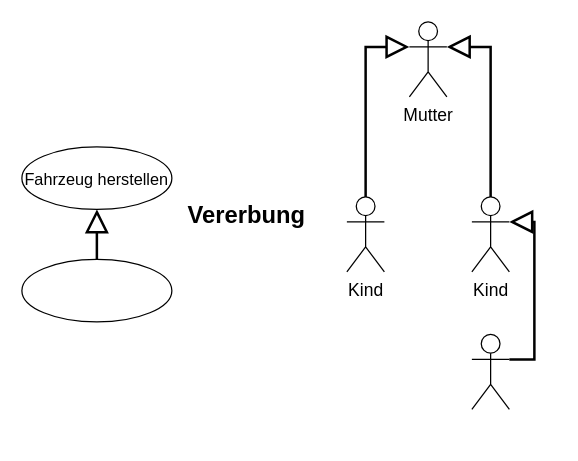
Image size: 578x461. Some labels were removed from this diagram. The shapes that lost their labels are listed below. From the top down, each one's box as (x1, y1, x2, y2) in pixels, then its label:
(21, 258, 172, 322): Auto herstellen
(471, 333, 509, 409): Kindes-Kind
